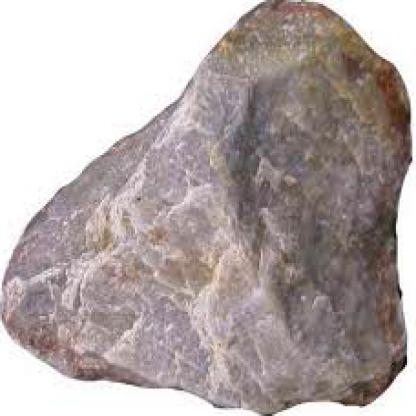Metamorphic_Quartize: (0, 4, 414, 414)
